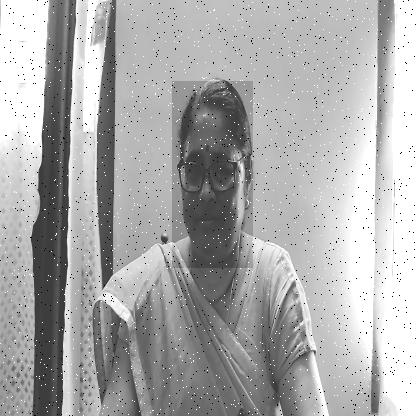Normal: (172, 81, 253, 268)
